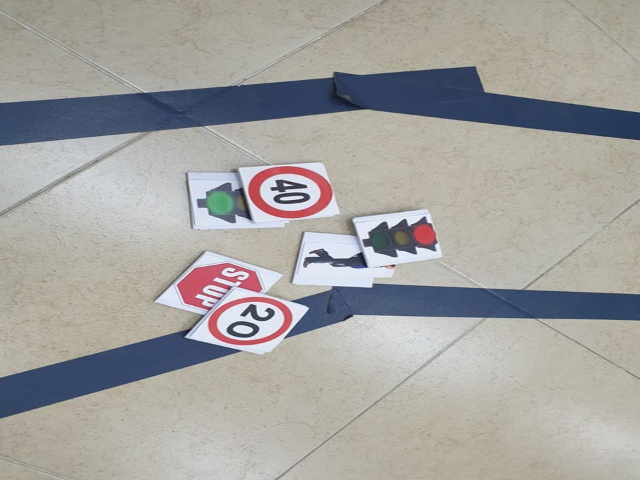Green: (192, 174, 246, 226)
Limit 20: (209, 298, 294, 351)
Limit 40: (249, 168, 333, 220)
Person: (302, 242, 366, 282)
Red: (367, 217, 437, 259)
Stop: (176, 261, 264, 301)
